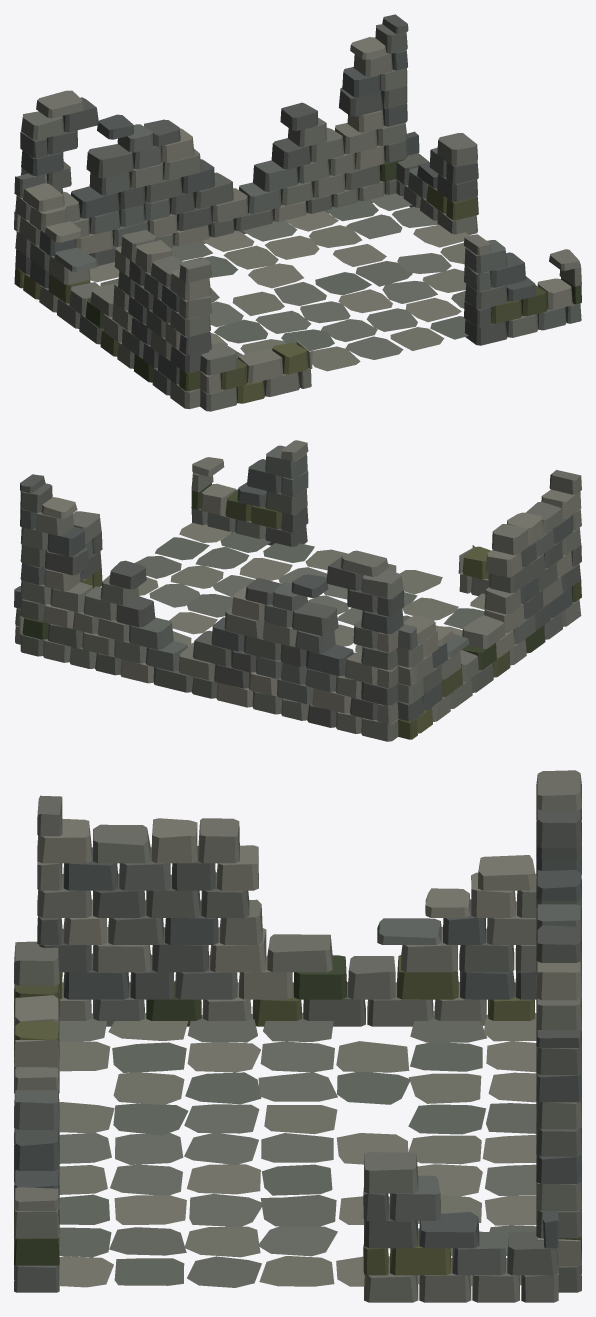
Rendered from fallen-keep-barracks.glb.
3 renders of one model, top to bottom at view 1: azimuth 30°, elevation 25°; view 2: azimuth 150°, elevation 25°; view 3: azimuth 270°, elevation 25°, orthographic. The views are drawn at different scales.
Parts seen in each view (by area): view 1: FallenKeep_Roofless_barracks; view 2: FallenKeep_Roofless_barracks; view 3: FallenKeep_Roofless_barracks.
Part boxes in pixels (box(x1,y1,x2,y2)): FallenKeep_Roofless_barracks: box(14, 14, 581, 411); FallenKeep_Roofless_barracks: box(14, 440, 581, 741); FallenKeep_Roofless_barracks: box(14, 770, 581, 1302).
Bounding box in the file's own units: 10.7 × 4.4 × 8.7.
